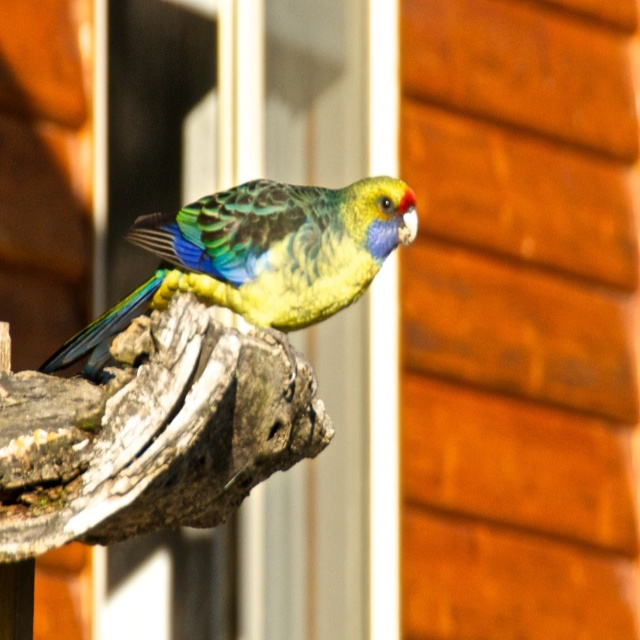Parrot: (34, 174, 419, 374)
